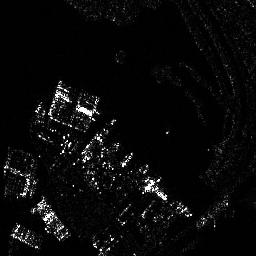ship: (54, 80, 106, 115), (32, 199, 73, 240), (47, 100, 92, 134), (8, 224, 44, 249), (143, 176, 170, 200), (170, 199, 194, 217)
